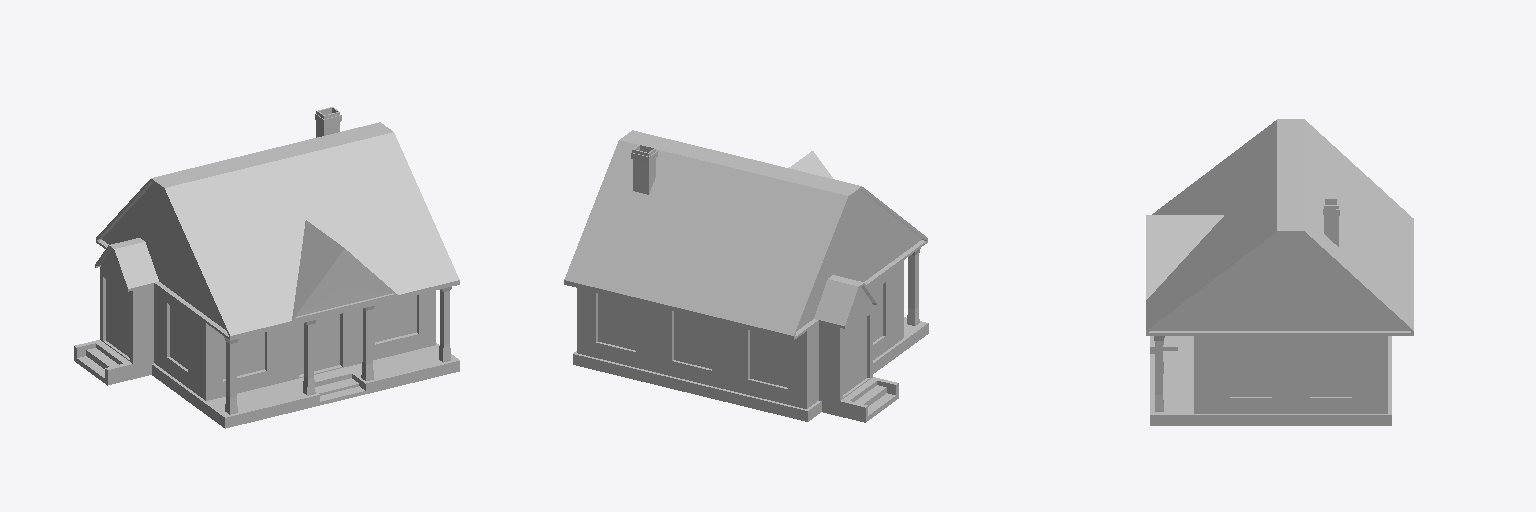
The model's file is smallHouse.obj.
3 renders of one model, left to right at view 1: azimuth 30°, elevation 25°; view 2: azimuth 150°, elevation 25°; view 3: azimuth 270°, elevation 25°, orthographic.
Visible parts, largest first — view 1: the_smallHouse; view 2: the_smallHouse; view 3: the_smallHouse.
Boxes of the visible parts, x1,y1,x2,y2 form: the_smallHouse: [74, 107, 459, 428]; the_smallHouse: [564, 130, 928, 422]; the_smallHouse: [1146, 119, 1413, 425].
Bounding box in the file's own units: 36.43 × 25.41 × 30.3.